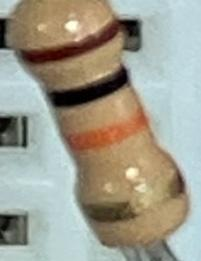Black: (44, 65, 132, 112)
Brown: (20, 14, 126, 74)
Orange: (62, 107, 151, 159)
Side-Gold: (77, 168, 189, 232)
